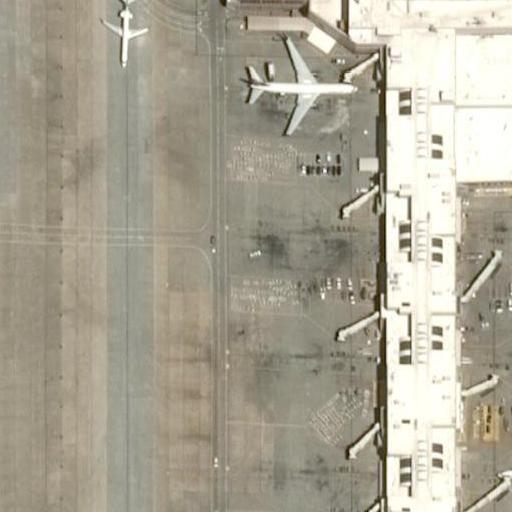Aircraft: (241, 33, 358, 138), (99, 0, 150, 65), (495, 437, 512, 508)
